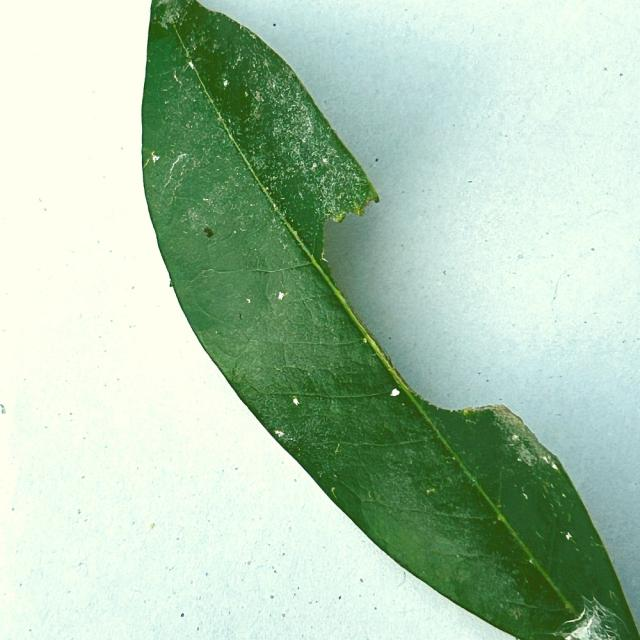Deficiency Leaf: (332, 210, 507, 410)
Lychee: (140, 0, 639, 639)
